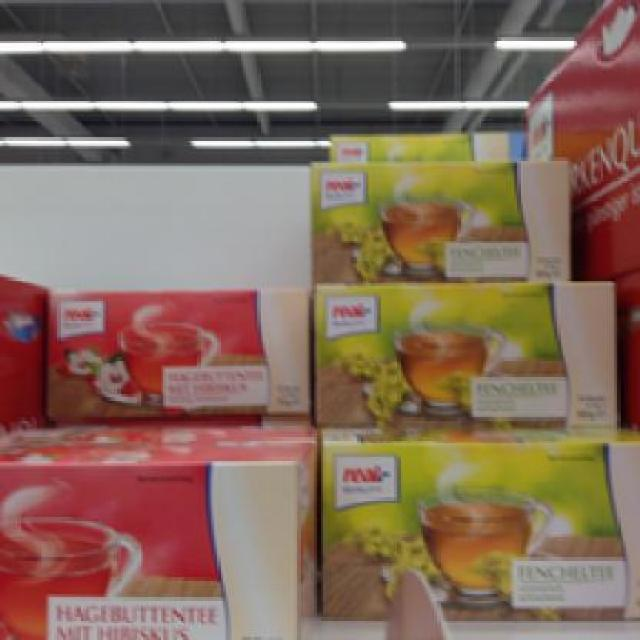Tea: (0, 432, 317, 638), (312, 426, 638, 626), (312, 277, 618, 432), (40, 286, 309, 426), (306, 154, 568, 274)
